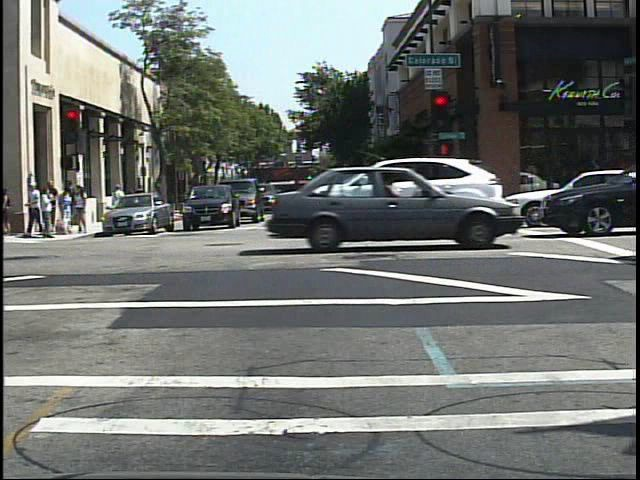person: (108, 181, 128, 225)
